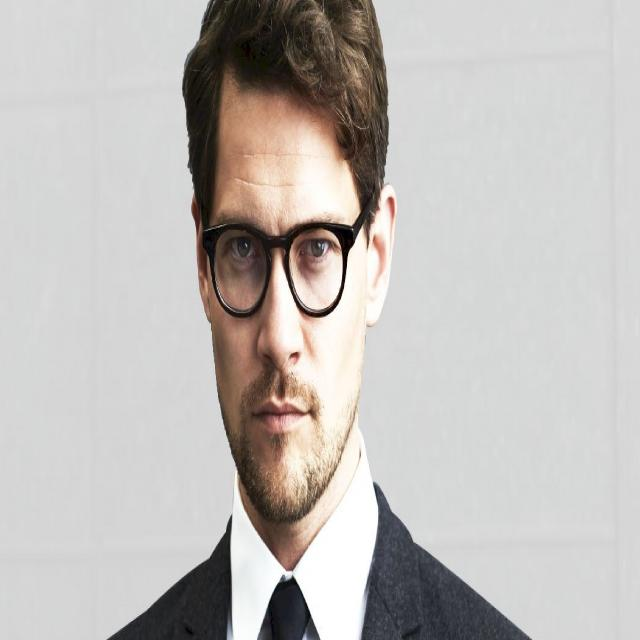Glasses: (201, 205, 365, 322)
